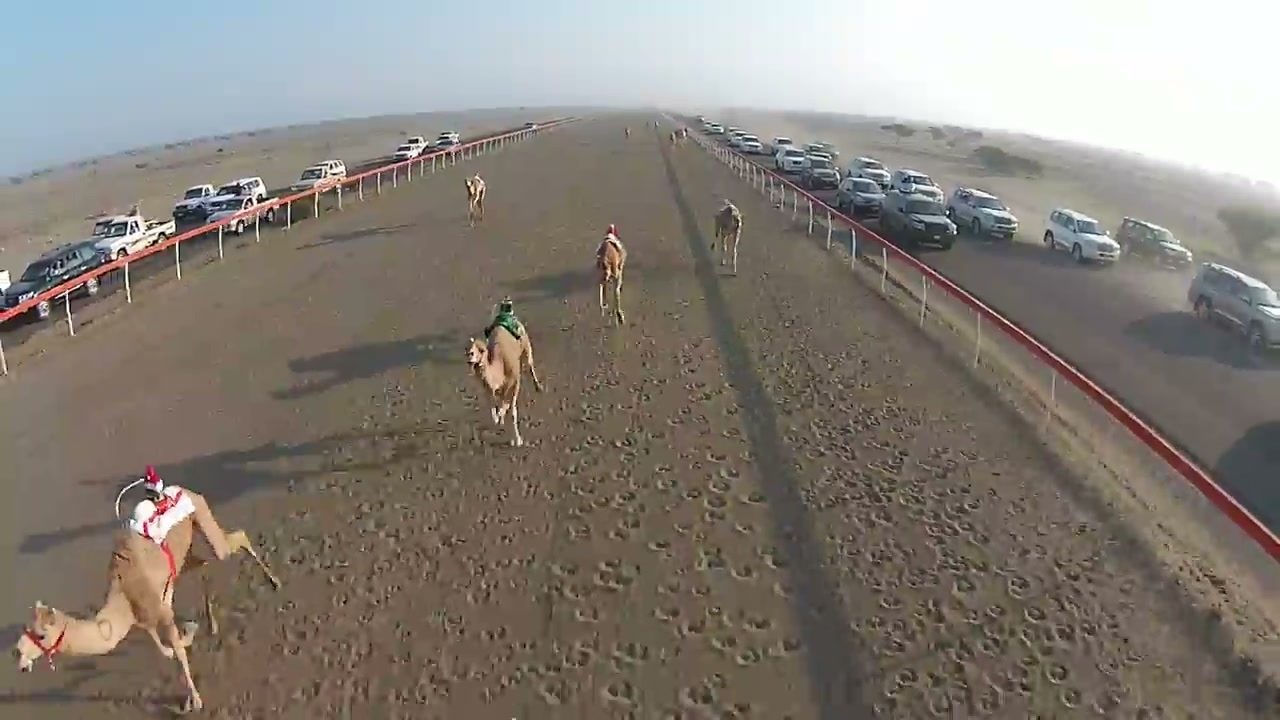animal_footprint: (196, 246, 1260, 719), (491, 407, 501, 424)
